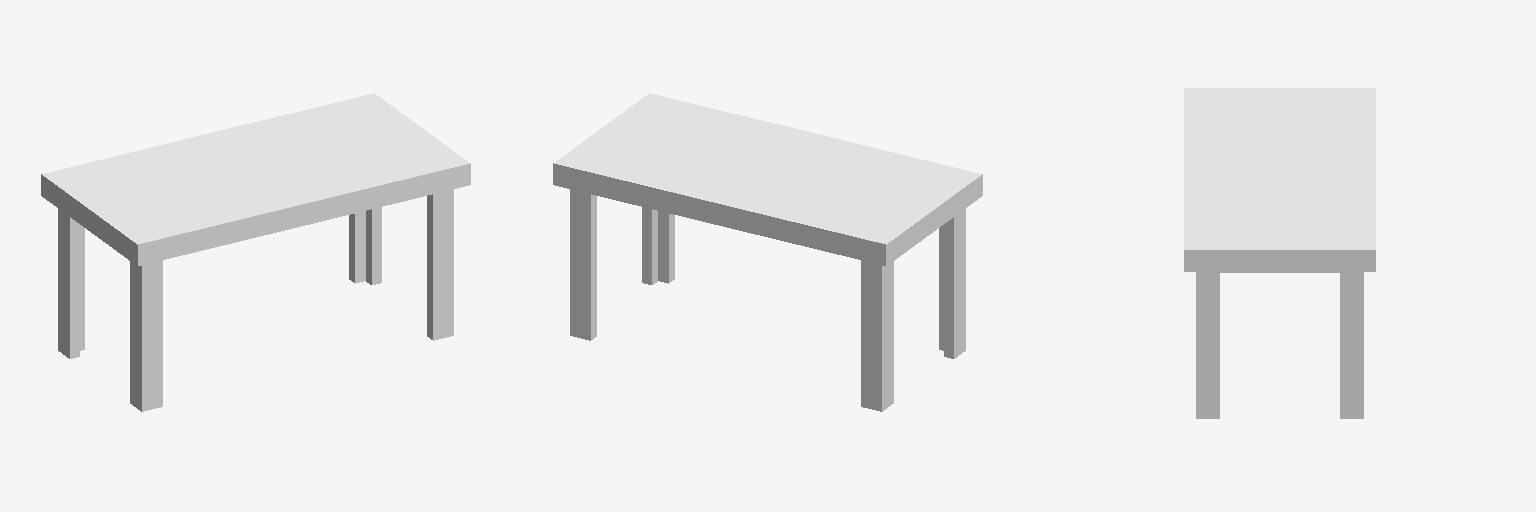
The model's file is table_1x2.obj.
3 renders of one model, left to right at view 1: azimuth 30°, elevation 25°; view 2: azimuth 150°, elevation 25°; view 3: azimuth 270°, elevation 25°, orthographic.
Visible parts, largest first — view 1: object 1; view 2: object 1; view 3: object 1.
Part boxes in pixels (x1,y1,x2,y2): object 1: (41,93,470,411); object 1: (553,93,982,411); object 1: (1184,88,1375,418).
Bounding box in the file's own units: 3.2 × 1.6 × 1.6.